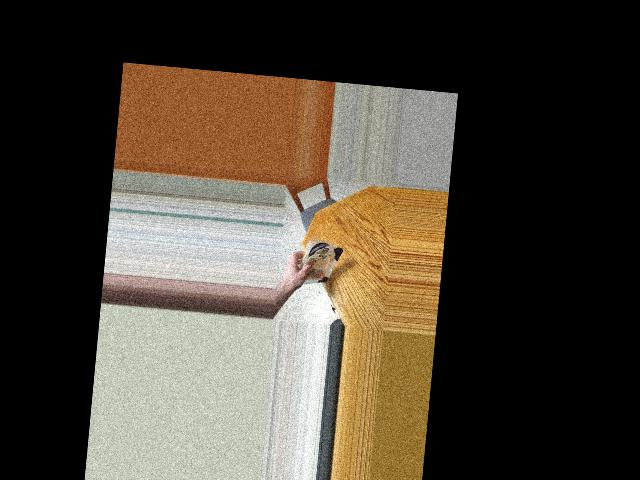cheese: (300, 240, 340, 292)
